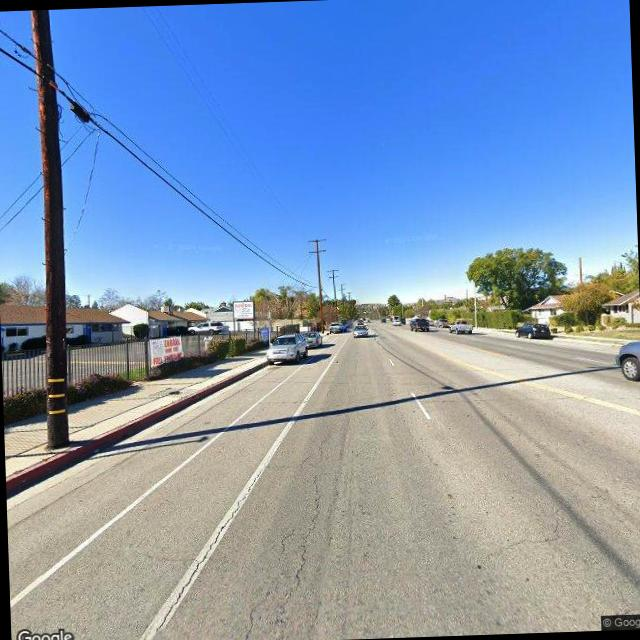crack: (237, 440, 340, 640)
pothole: (153, 463, 269, 624)
